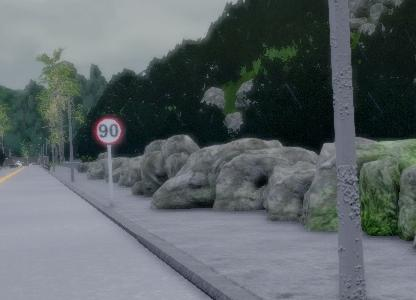Speed_90: (90, 115, 125, 148)
